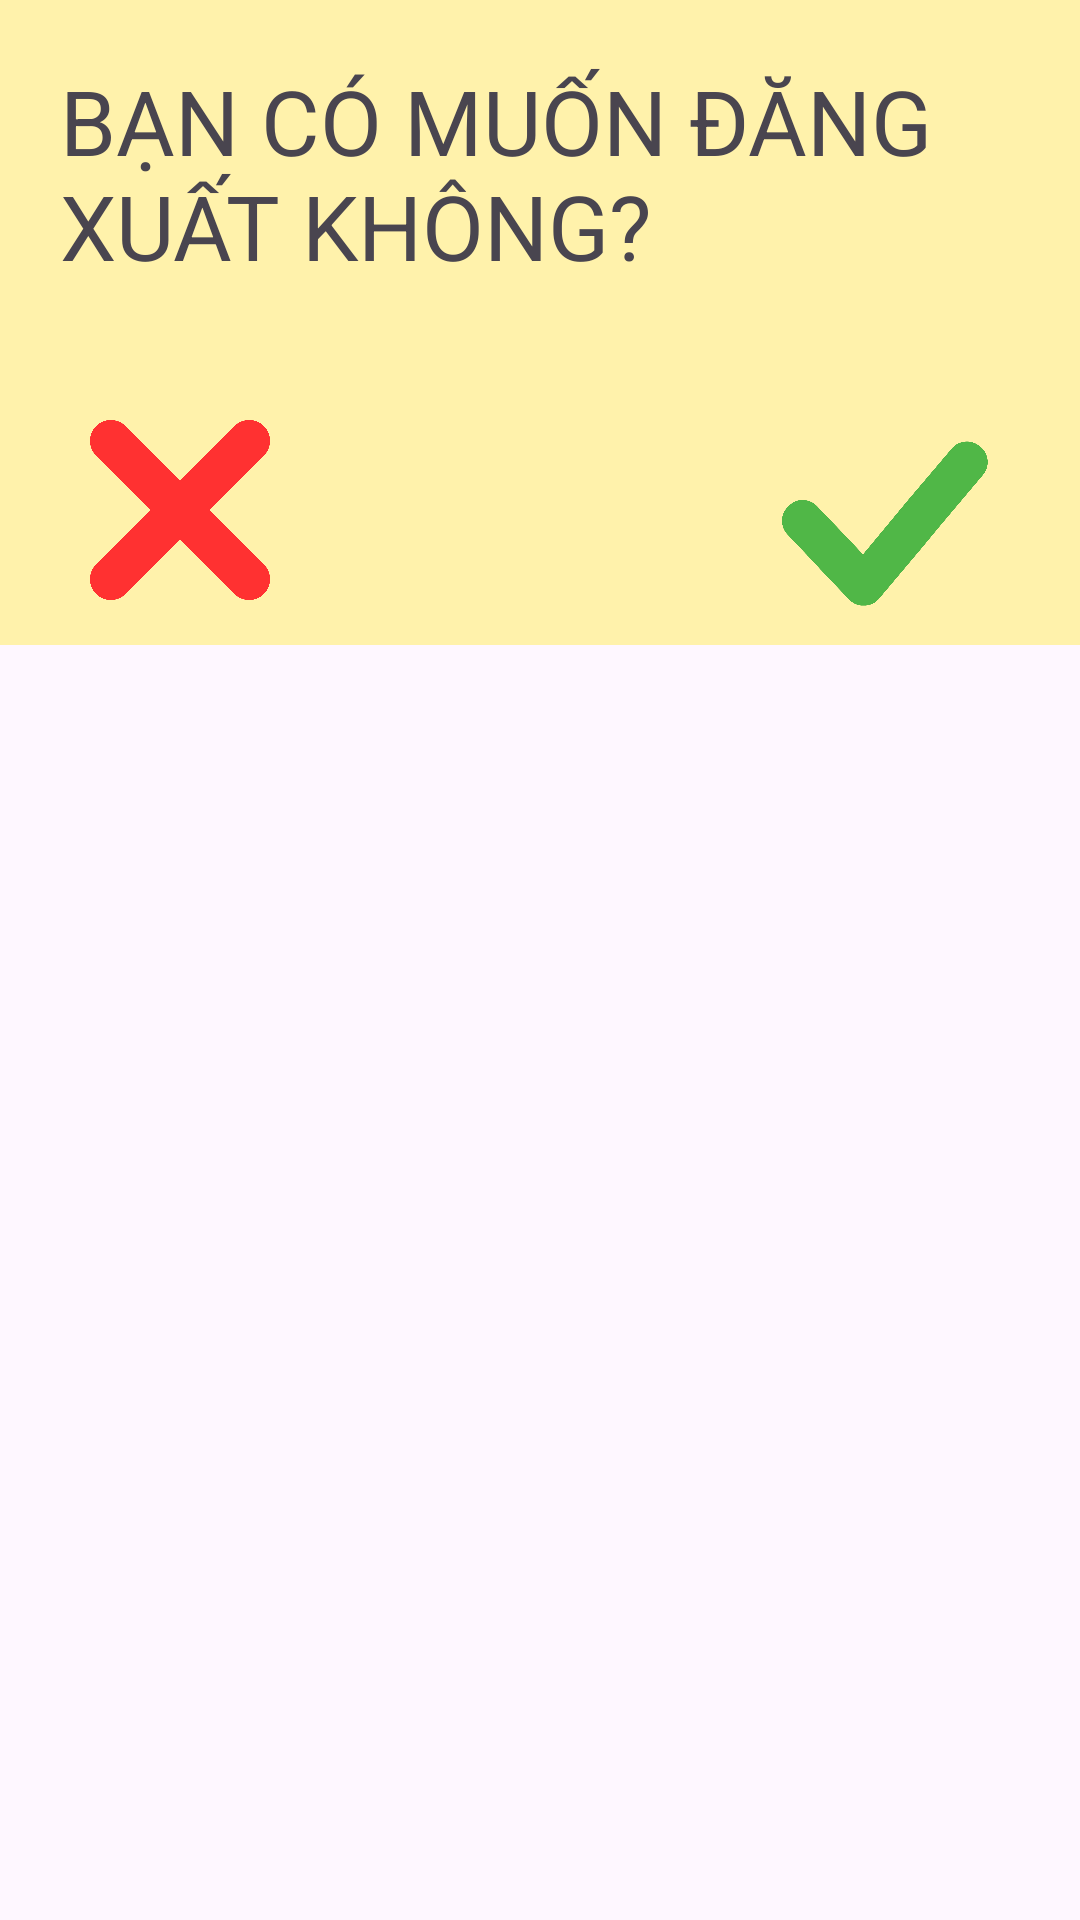

Point at icon controls on the screen. Image size 1080 × 1920, points as [x,y].
yes: [885,523]
